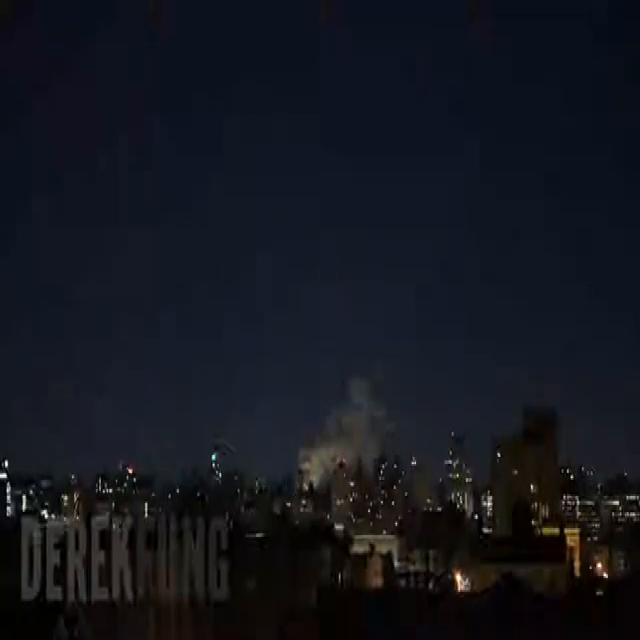smoke: (298, 379, 393, 485)
